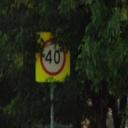speed_limit_40: (39, 37, 66, 76)
